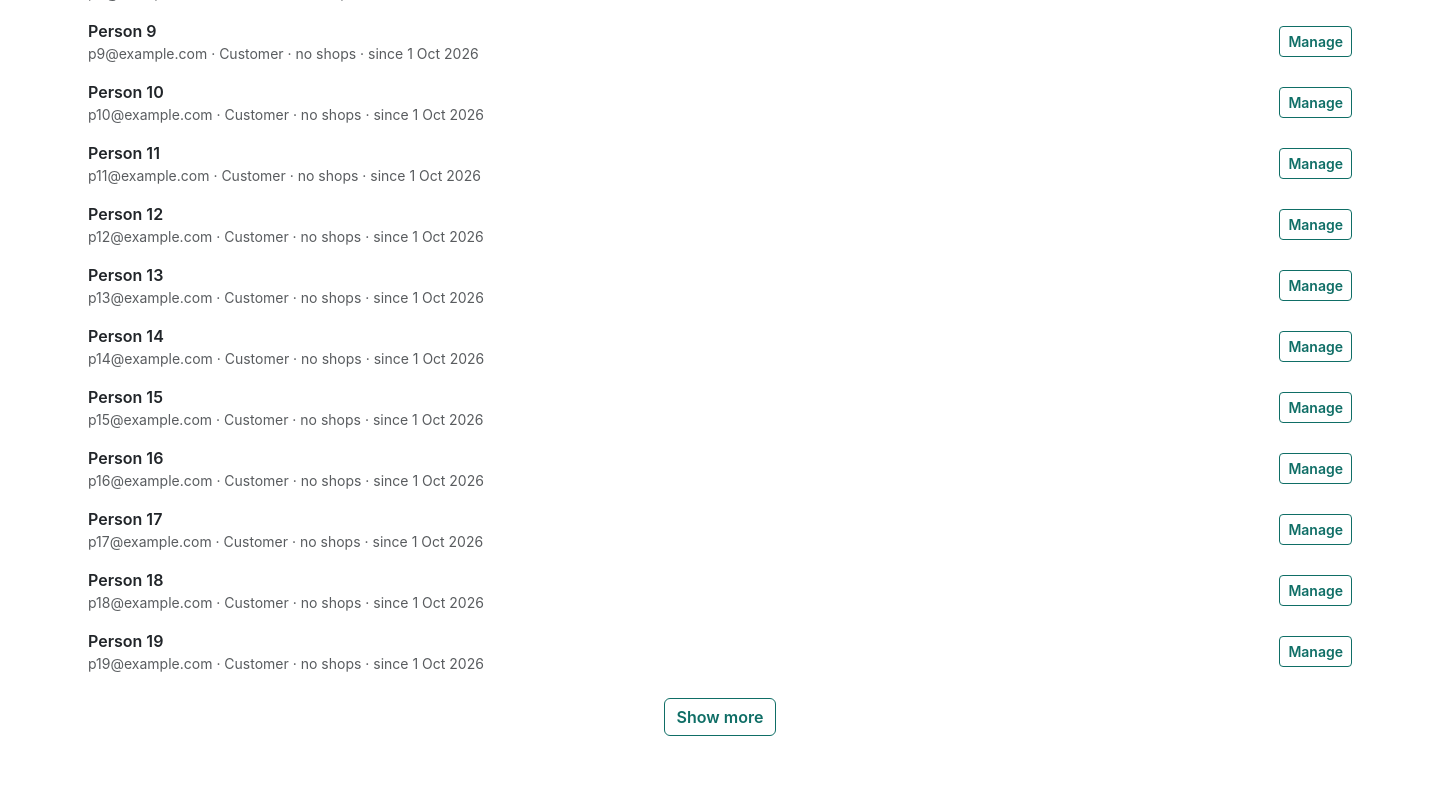
Scenario: the accounts list › shows more, a page at a time
(page scrolled)
Click the button "Show more": (720, 717) [664, 698, 776, 736]
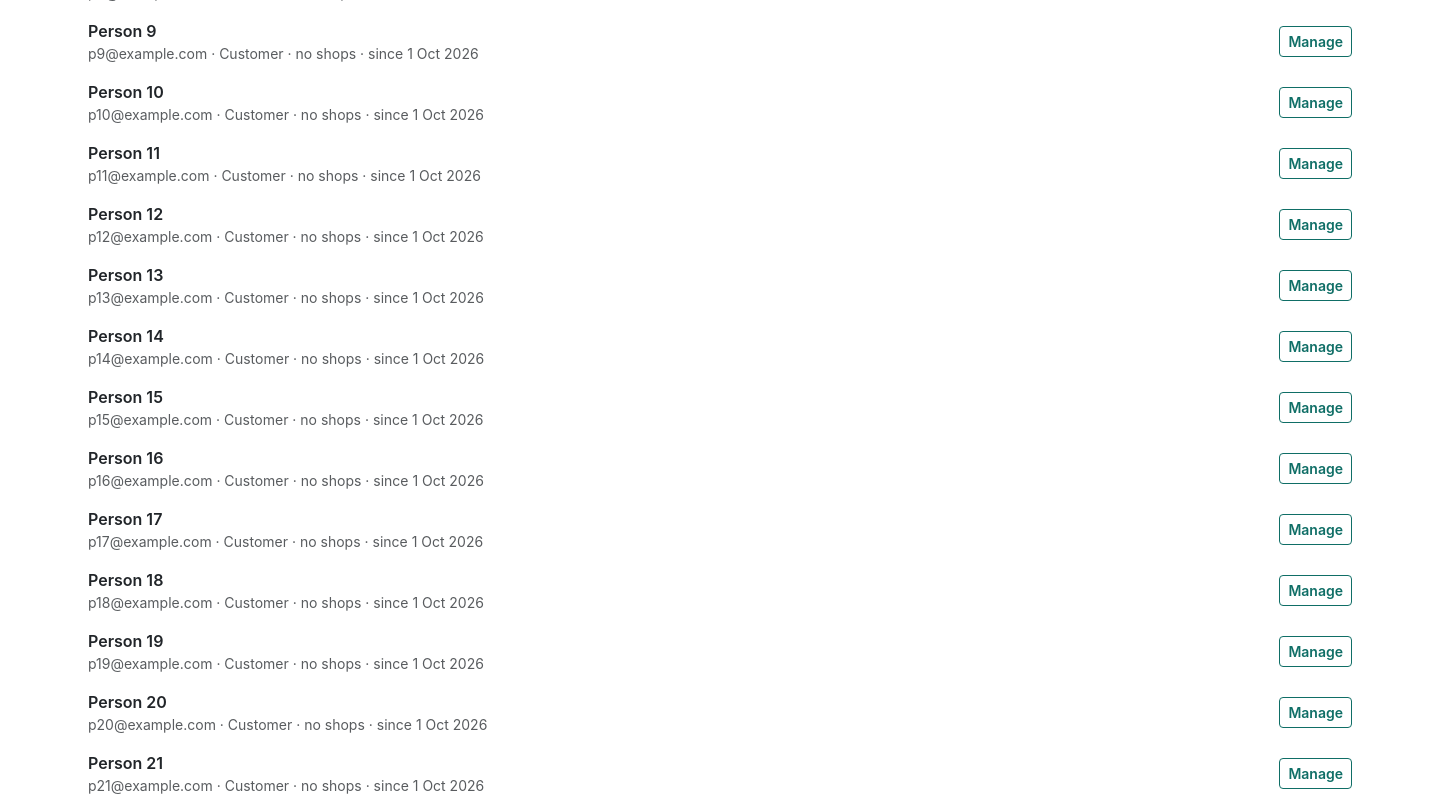
Result: the button "Show more" is gone
